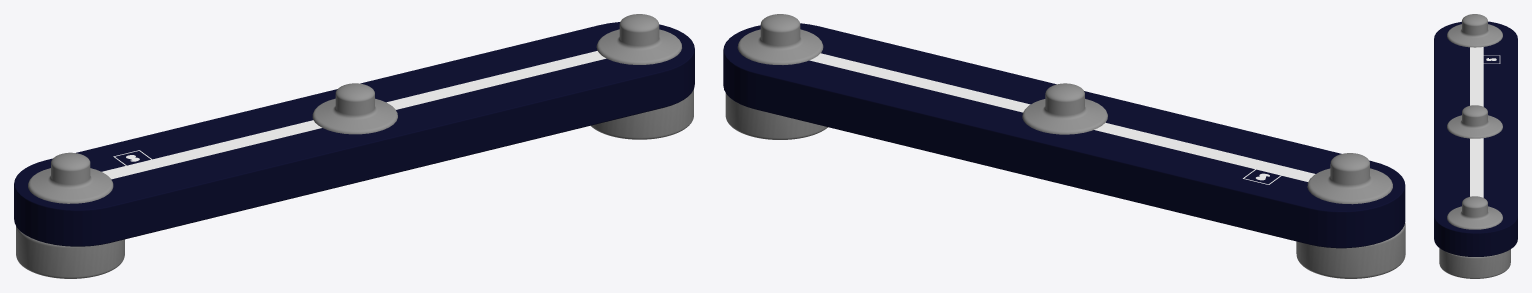
Rendered from WireWay.FBX.
3 renders of one model, left to right at view 1: azimuth 30°, elevation 25°; view 2: azimuth 150°, elevation 25°; view 3: azimuth 270°, elevation 25°, orthographic. The views are drawn at different scales.
Parts seen in each view (by area): view 1: Base, ButtonUp (×3), ButtonDown (×2), Text; view 2: Base, ButtonUp (×3), ButtonDown (×2), Text; view 3: Base, ButtonUp (×3), Text, ButtonDown.
Part boxes in pixels (box(x1,y1,x2,y2)): Base: box(14, 22, 694, 246); ButtonUp (×3): box(28, 14, 681, 203); ButtonDown (×2): box(16, 89, 693, 278); Text: box(102, 51, 606, 179); Base: box(723, 23, 1405, 248); ButtonUp (×3): box(737, 14, 1392, 204); ButtonDown (×2): box(725, 93, 1405, 278); Text: box(809, 53, 1315, 181); Base: box(1434, 21, 1517, 256); ButtonUp (×3): box(1447, 14, 1502, 229); Text: box(1470, 47, 1483, 197); ButtonDown: box(1439, 248, 1510, 278).
Size of the model in its own units: 93.03 by 13.37 by 15.5.
